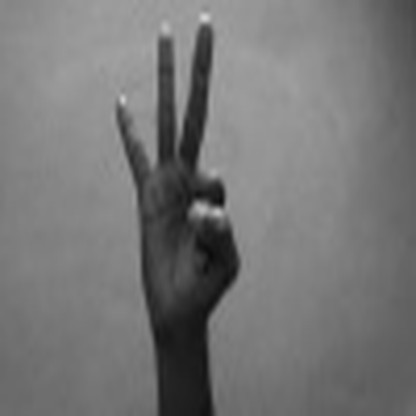f: (102, 8, 255, 334)
